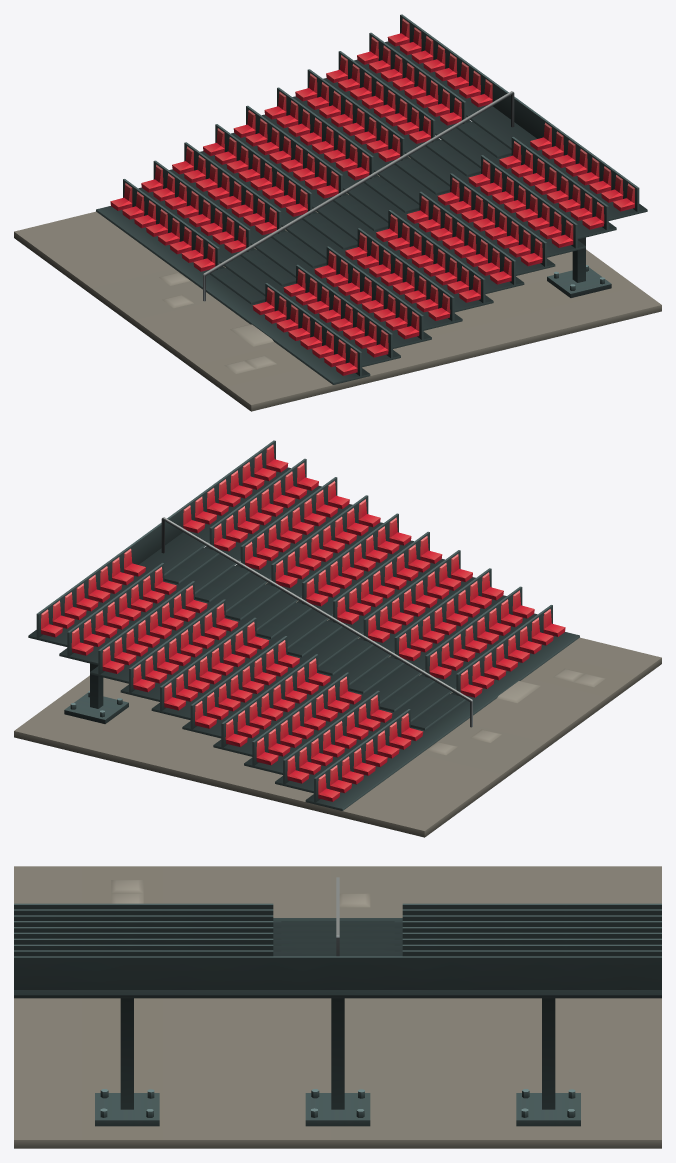
The model's file is Stand_1A.fbx.
3 views of the same model, one above another, from view 1: azimuth 30°, elevation 25°; view 2: azimuth 150°, elevation 25°; view 3: azimuth 270°, elevation 25° (orthographic). The views are drawn at different scales.
Parts seen in each view (by area): view 1: Stand_1A; view 2: Stand_1A; view 3: Stand_1A.
Part boxes in pixels (bbox=[...]): Stand_1A: bbox=[14, 14, 661, 411]; Stand_1A: bbox=[14, 440, 661, 837]; Stand_1A: bbox=[14, 866, 661, 1148].
Bounding box in the file's own units: 20 × 6.55 × 20.
